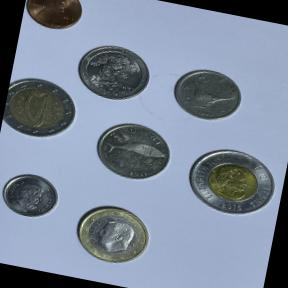1 Euro-B: (62, 192, 160, 272)
2 Euro-B: (0, 70, 83, 148)
Canada-10cent-B: (0, 163, 65, 225)
Canada-2Dollar-B: (172, 131, 288, 229)
Croatia-2Kune-B: (86, 110, 182, 190)
US-1cent-B: (20, 0, 93, 39)
US-25cent-B: (70, 34, 157, 109)
